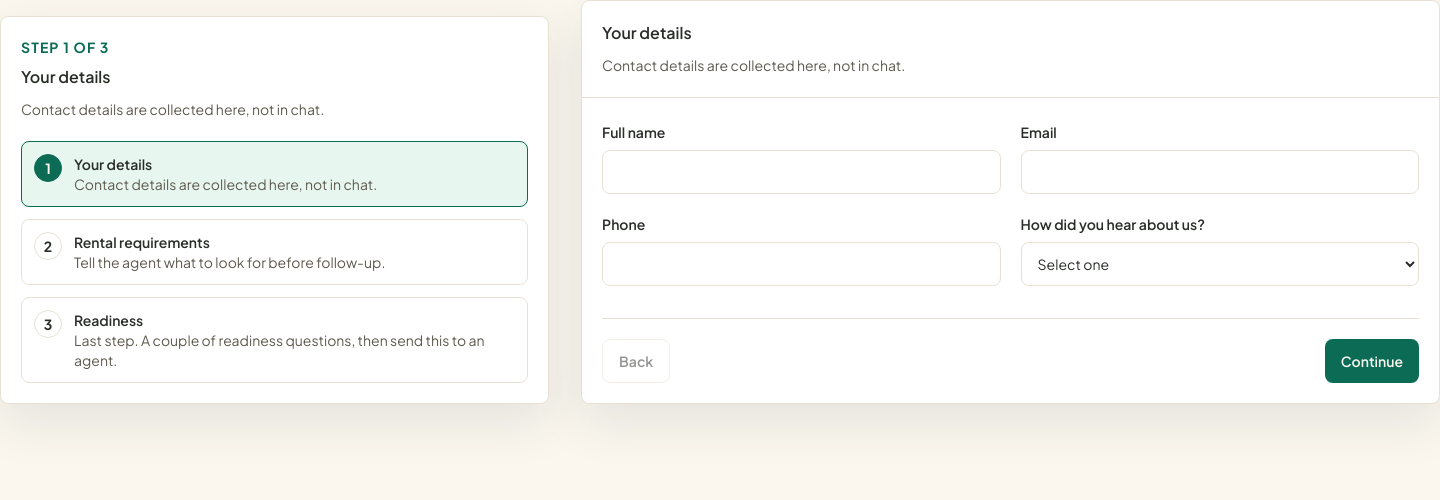
Test: RenterIntakeForm › keeps the user on the first invalid step with validation errors
Click the button "Continue" at {"x": 1372, "y": 361}, box top-left (1325, 339), bottom-right (1419, 383)
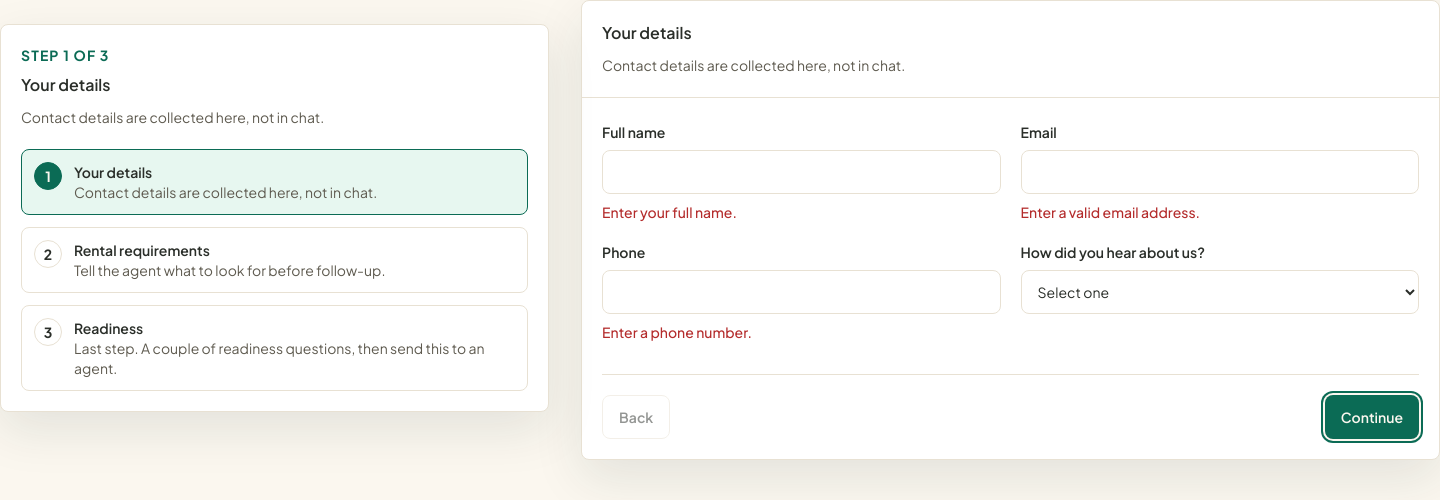
expect the text "Enter your full name." is shown: met, box top-left (602, 203), bottom-right (737, 221)
